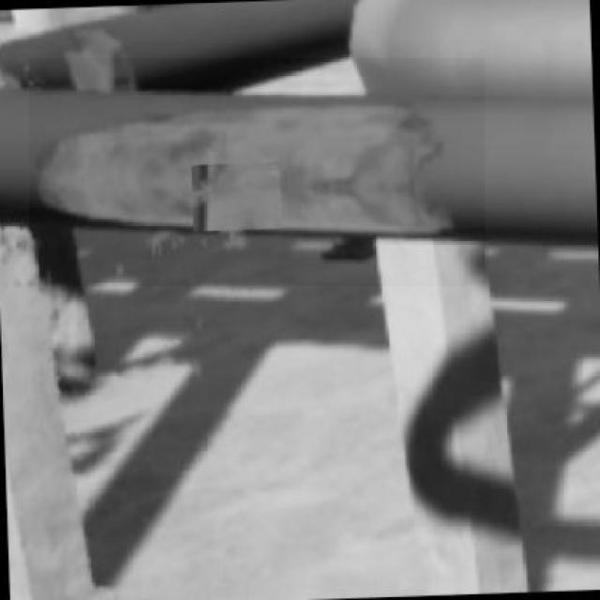gas: (29, 58, 485, 286)
